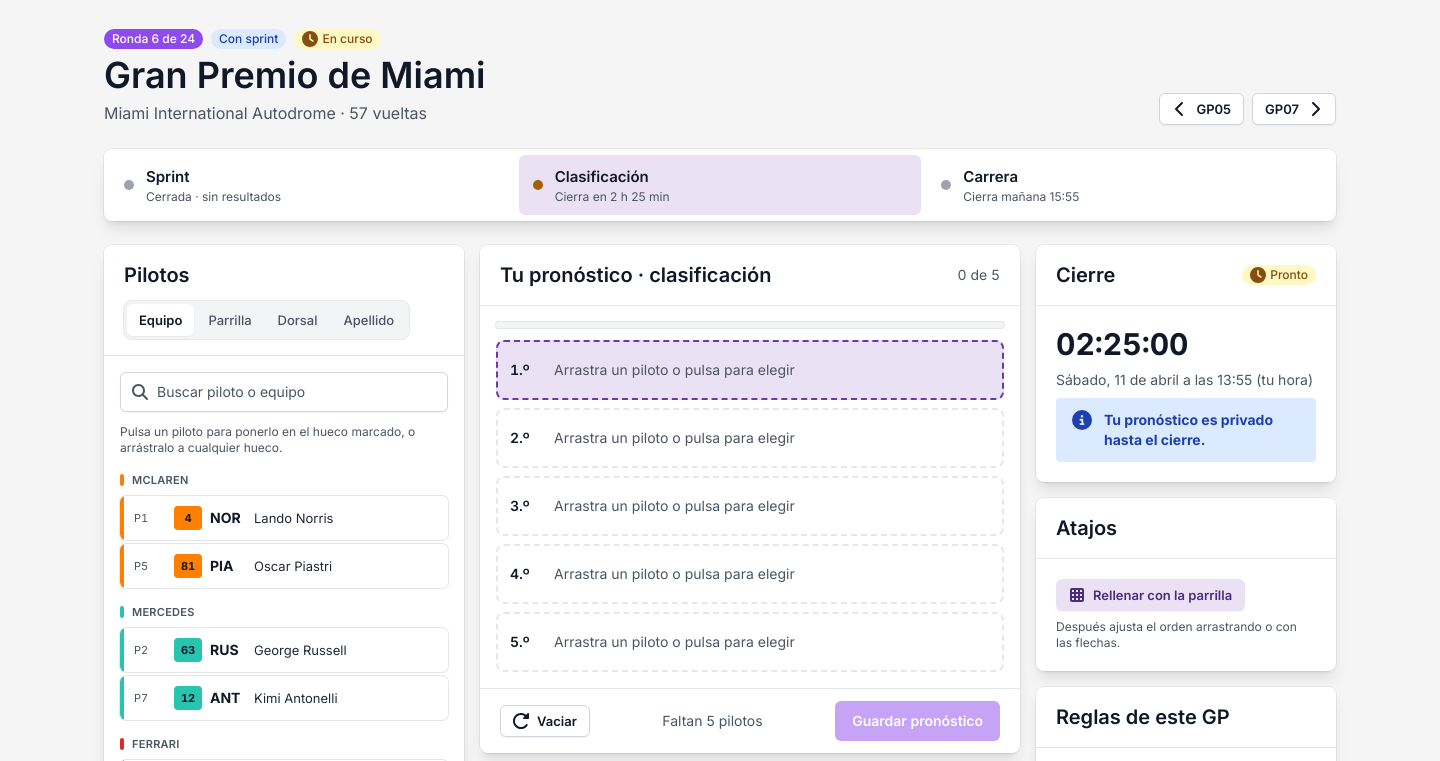
Test: Predict (G3) › Quitar empties the slot and makes it active; Vaciar empties everything
Click the button "P1 4 NOR Lando Norris" at (284, 518), box [120,496,448,540]
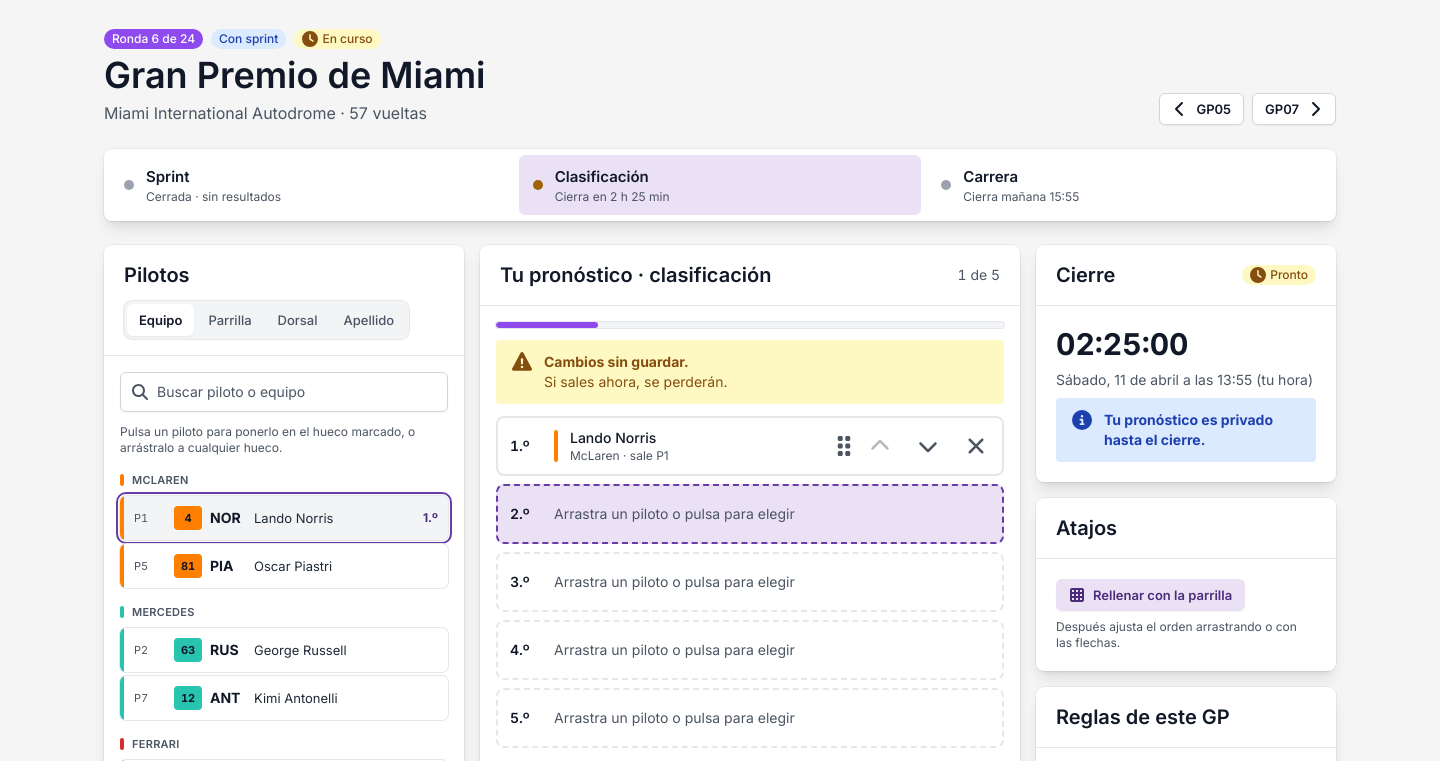
Click the button "P2 63 RUS George Russell" at (284, 650), box [120,628,448,672]
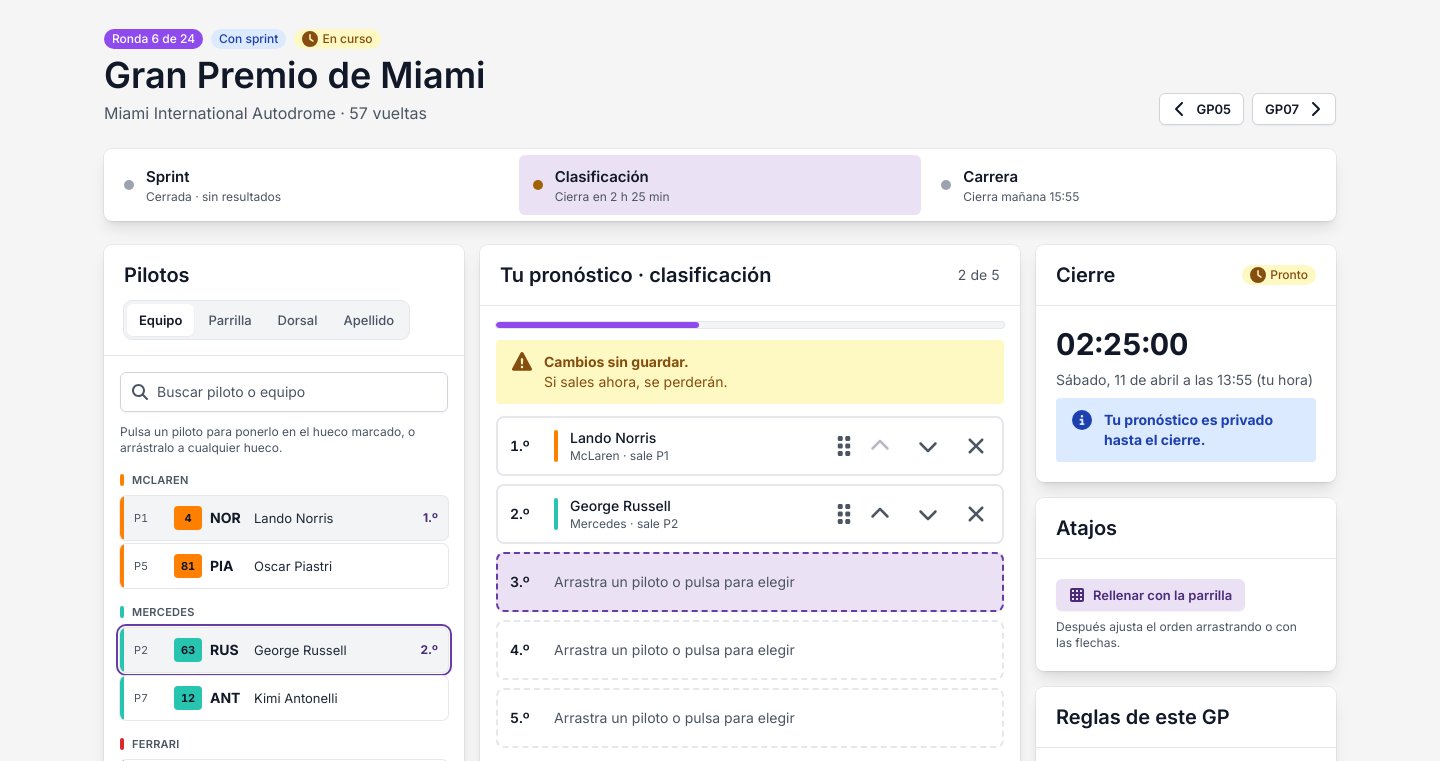
Click the button named "Quitar a Lando Norris" at (976, 446), box [954,424,998,468]
(page scrolled)
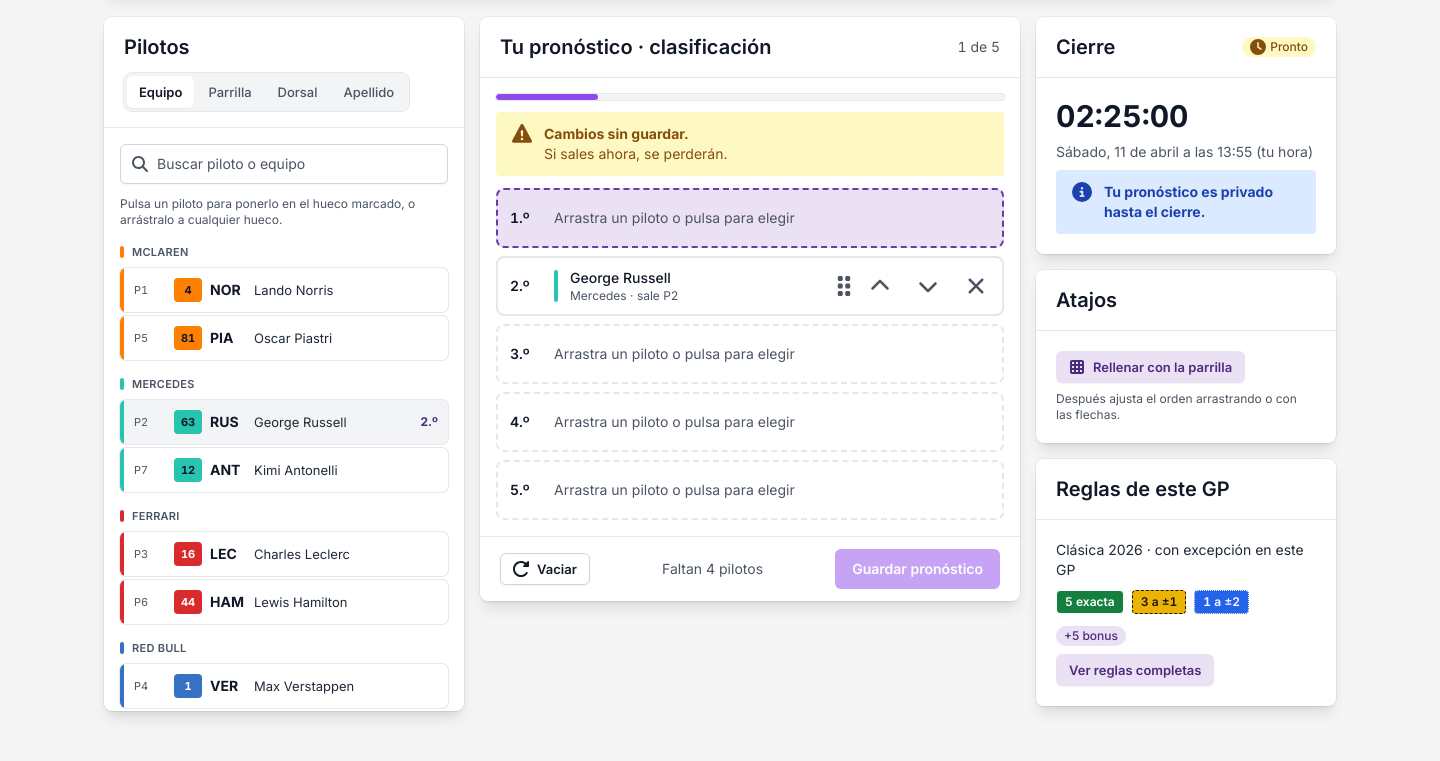
Click the button "Vaciar" at (545, 569), box [500,553,590,585]
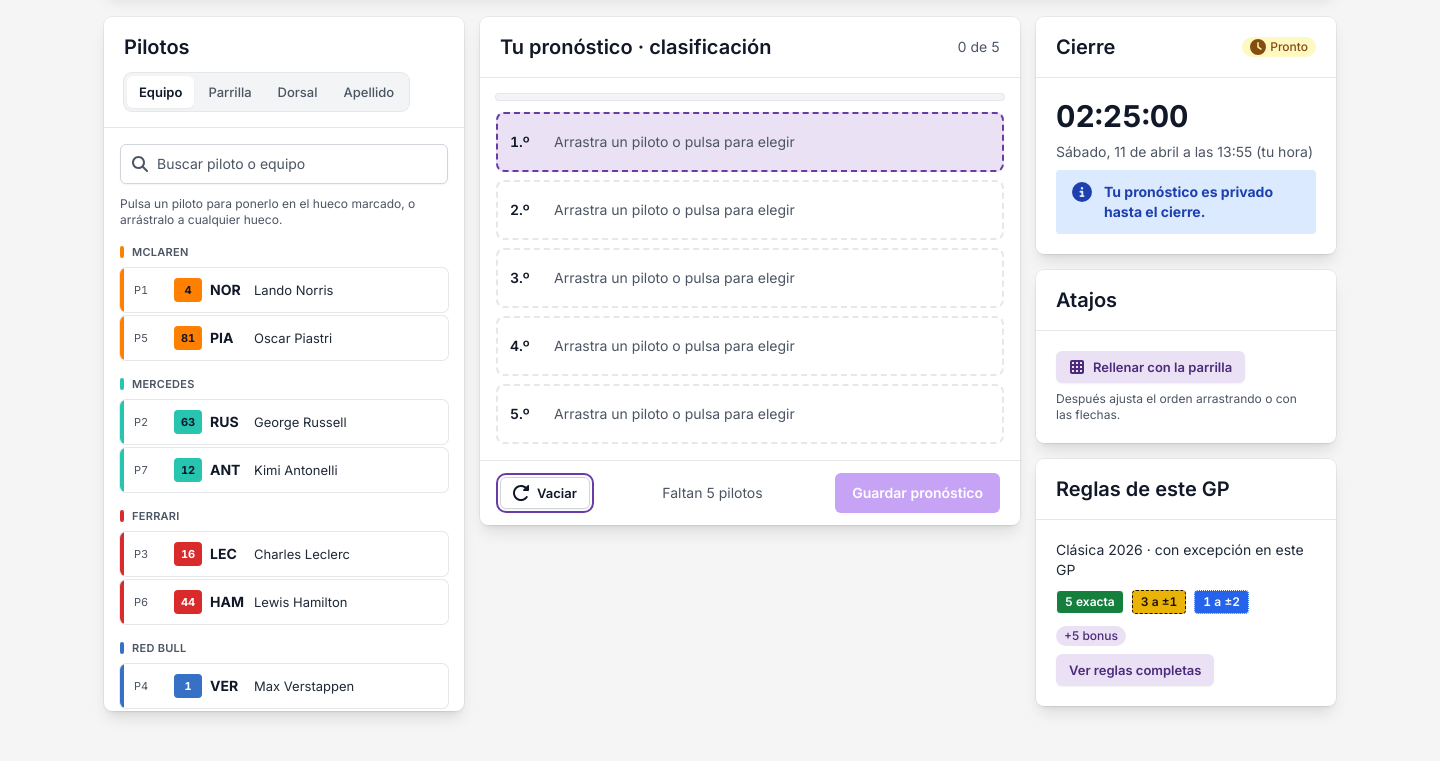
Result: the text "Faltan 5 pilotos" is shown at [662,483,763,503]
